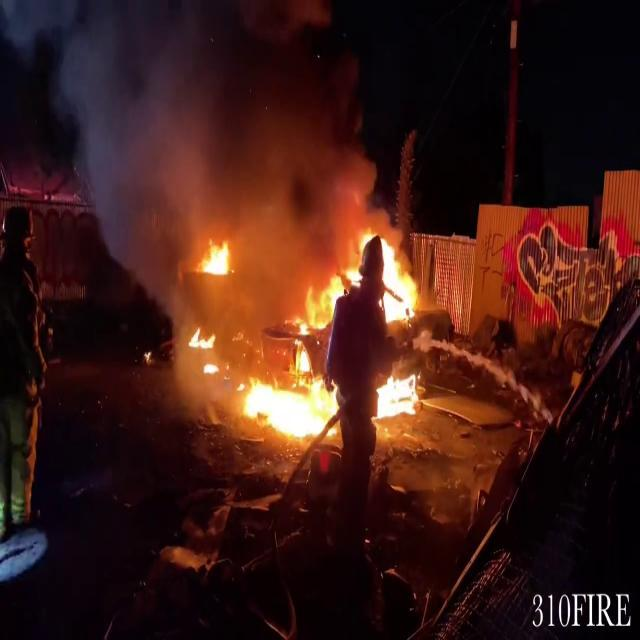Fire: (245, 268, 350, 456), (353, 216, 423, 328), (368, 366, 428, 428), (195, 234, 235, 284), (187, 329, 223, 382)
Smoke: (34, 0, 384, 249)
